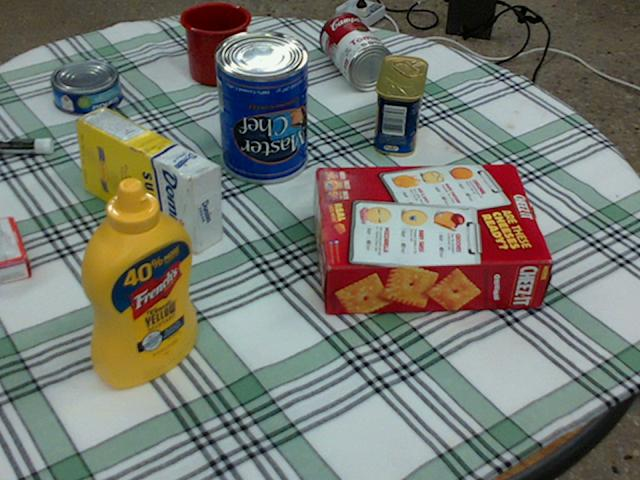cracker_box: (316, 163, 552, 315)
gelatin_box: (0, 216, 31, 284)
large_marker: (0, 138, 52, 153)
master_chef_can: (213, 30, 306, 183)
mug: (181, 2, 252, 84)
mustard_bottle: (80, 178, 196, 386)
potted_meat_can: (373, 55, 426, 156)
sugar_box: (75, 107, 221, 253)
tomato_soup_can: (320, 12, 392, 89)
tuna_fish_can: (51, 60, 121, 114)
